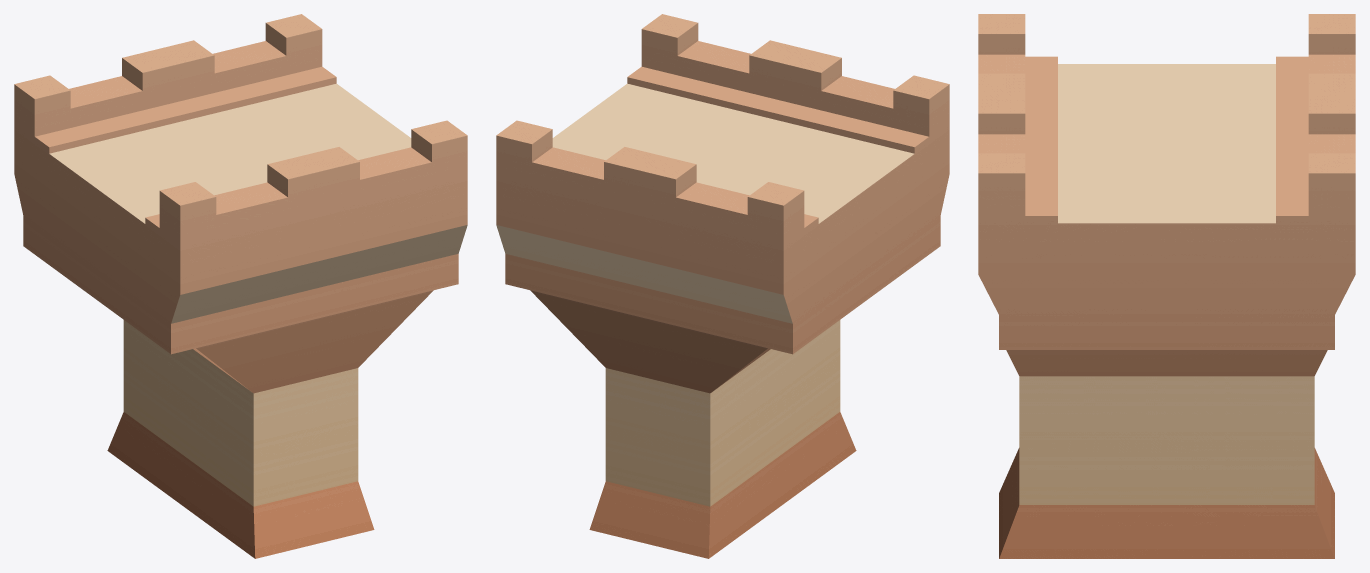
Rendered from bridge-straight-pillar.glb.
The picture shows the model from 3 angles, left to right: view 1: azimuth 30°, elevation 25°; view 2: azimuth 150°, elevation 25°; view 3: azimuth 270°, elevation 25°; orthographic projection. The views are drawn at different scales.
Parts seen in each view (by area): view 1: bridge-straight-pillar; view 2: bridge-straight-pillar; view 3: bridge-straight-pillar.
Part boxes in pixels (x1,y1,x2,y2): bridge-straight-pillar: [14, 14, 467, 558]; bridge-straight-pillar: [496, 14, 949, 558]; bridge-straight-pillar: [978, 14, 1355, 558].
Bounding box in the file's own units: 0.93 × 1.18 × 0.93.
1 material, 1 textured.
